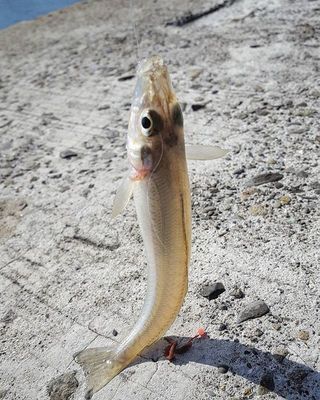kiss: (75, 52, 195, 394)
